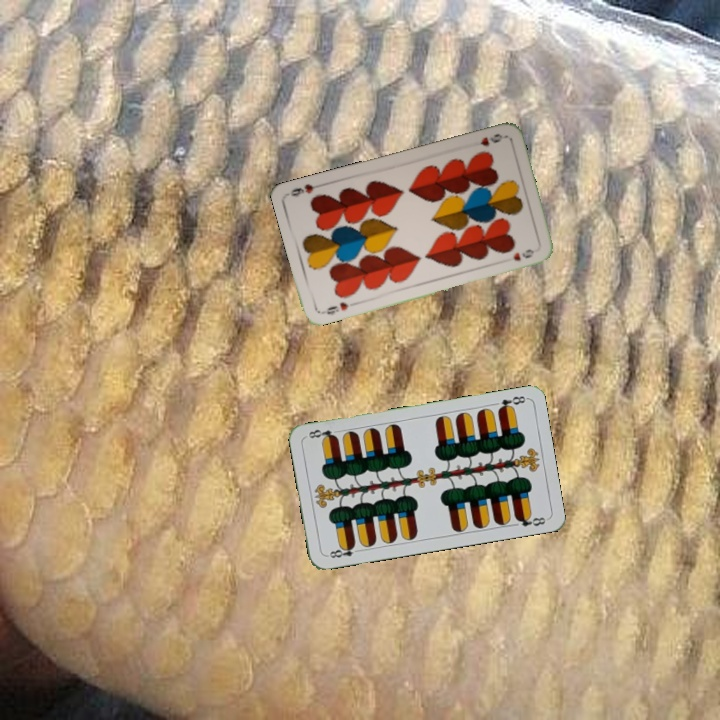E8: (323, 540, 363, 560), (494, 392, 529, 414)
H9: (318, 298, 351, 317), (476, 129, 505, 149)
